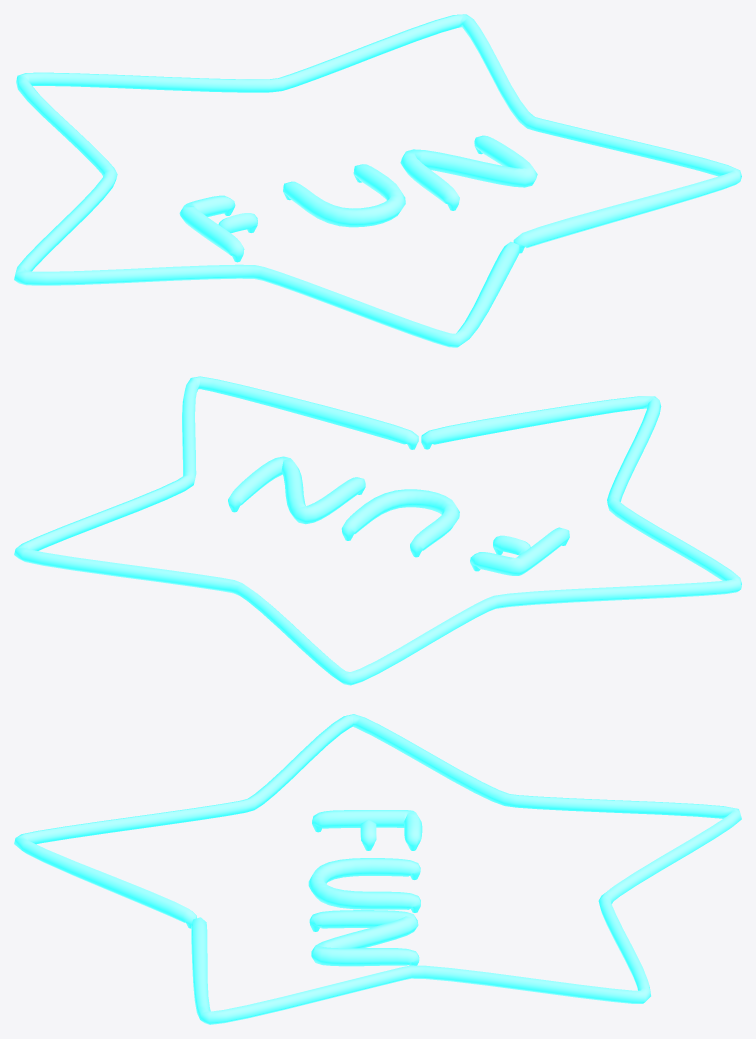
File: Arcade2neon.fbx
3 views of the same model, one above another, from view 1: azimuth 30°, elevation 25°; view 2: azimuth 150°, elevation 25°; view 3: azimuth 270°, elevation 25° (orthographic). The views are drawn at different scales.
Parts seen in each view (by area): view 1: neon_star.001, neon_letter_n, neon_letter_u, neon_letter_f; view 2: neon_star.001, neon_letter_n, neon_letter_u, neon_letter_f; view 3: neon_star.001, neon_letter_n, neon_letter_u, neon_letter_f.
Part boxes in pixels (bbox=[...]): neon_star.001: bbox=[14, 14, 741, 347]; neon_letter_n: bbox=[400, 135, 537, 210]; neon_letter_u: bbox=[283, 164, 405, 227]; neon_letter_f: bbox=[179, 195, 257, 262]; neon_star.001: bbox=[14, 376, 741, 685]; neon_letter_n: bbox=[228, 456, 365, 524]; neon_letter_u: bbox=[341, 489, 459, 557]; neon_letter_f: bbox=[470, 527, 569, 575]; neon_star.001: bbox=[14, 714, 741, 1024]; neon_letter_n: bbox=[309, 910, 419, 966]; neon_letter_u: bbox=[308, 858, 420, 912]; neon_letter_f: bbox=[312, 810, 422, 850].
Bounding box in the file's own units: 561 × 20.99 × 569.
